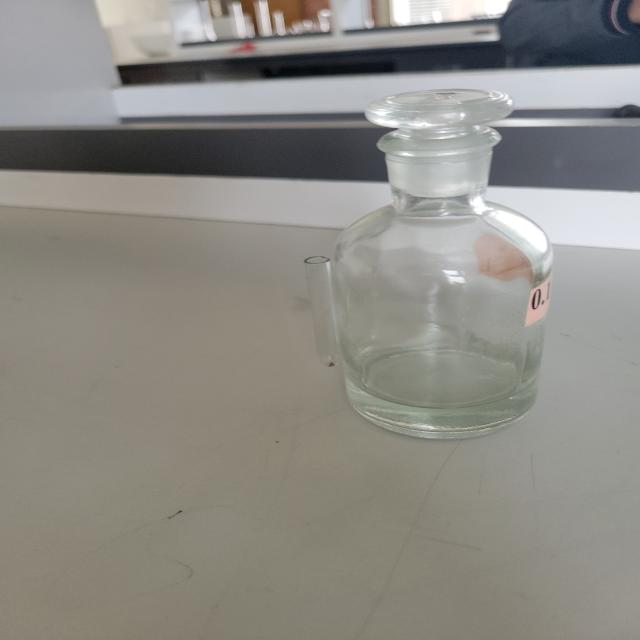Reagent_Bottle: (242, 54, 612, 474)
